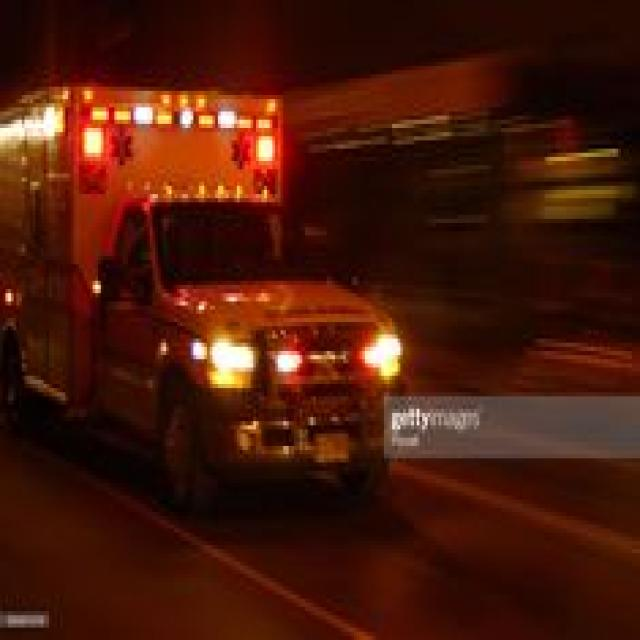ambulance: (55, 90, 291, 198)
